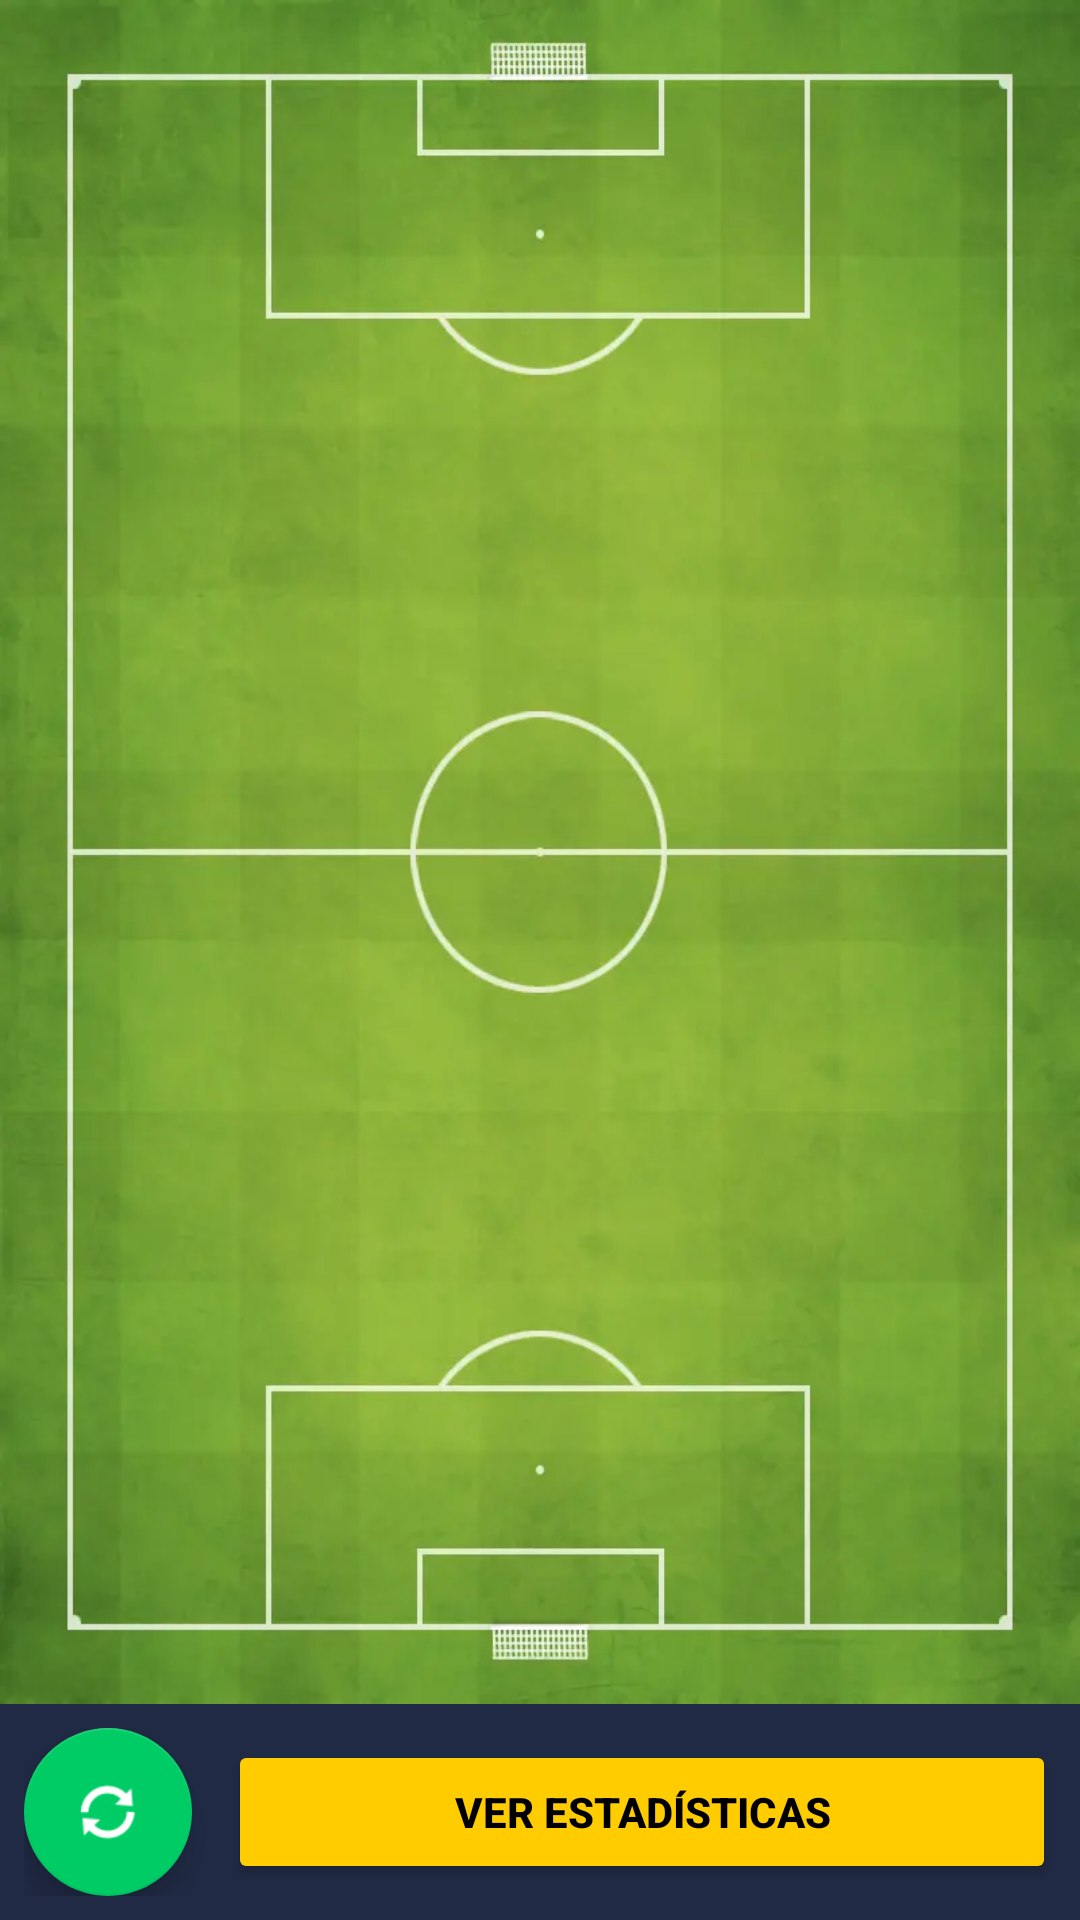

Locate icon controls on the screen. Image size 1080px×1920px, boxes as (x1=x1, y1=y1, x2=x2, y2=y2).
Crear otro equipo: (x1=24, y1=1728, x2=192, y2=1896)
